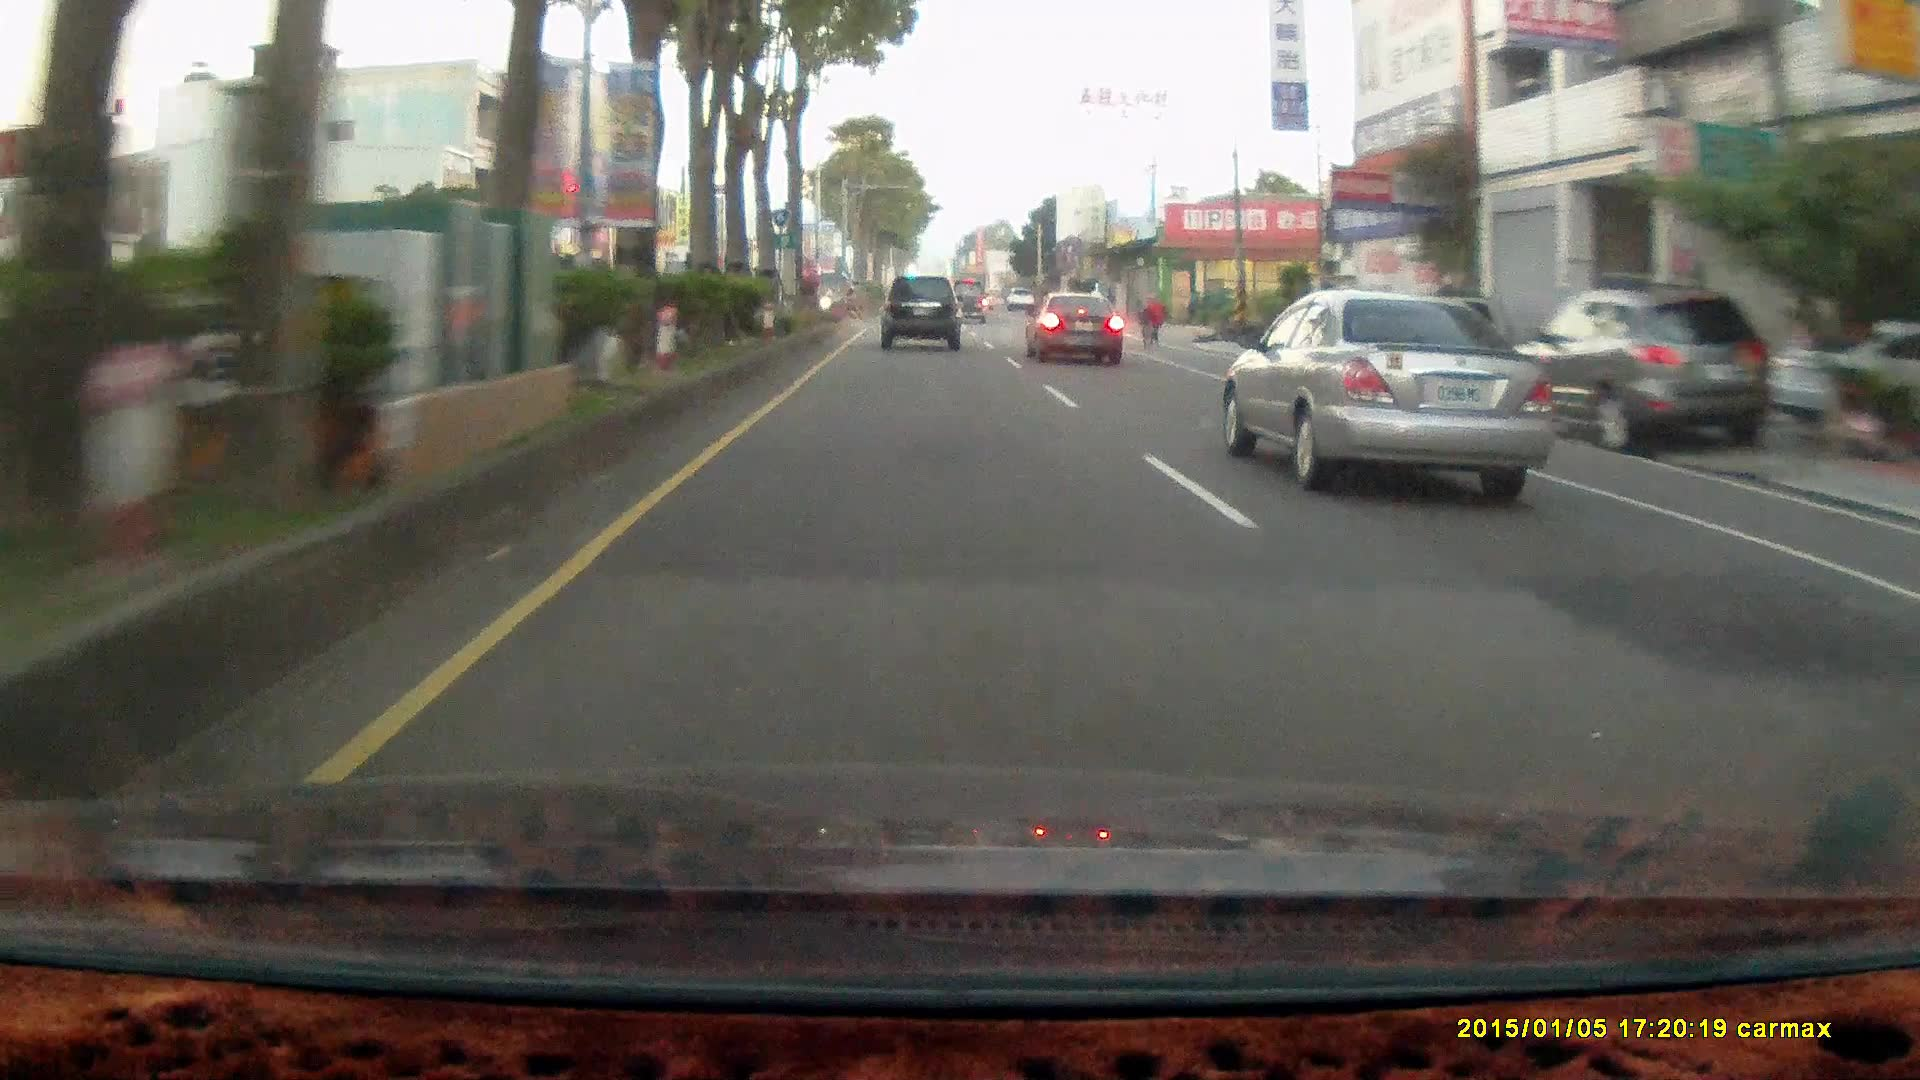pedestrian: (1145, 293, 1165, 344), (1146, 297, 1166, 346)
vehicle: (1223, 293, 1550, 483), (1505, 286, 1777, 452), (1502, 286, 1774, 452), (1760, 315, 1920, 441), (1023, 295, 1127, 372), (1024, 289, 1123, 365), (879, 278, 967, 353), (880, 277, 961, 352), (950, 283, 989, 329)
